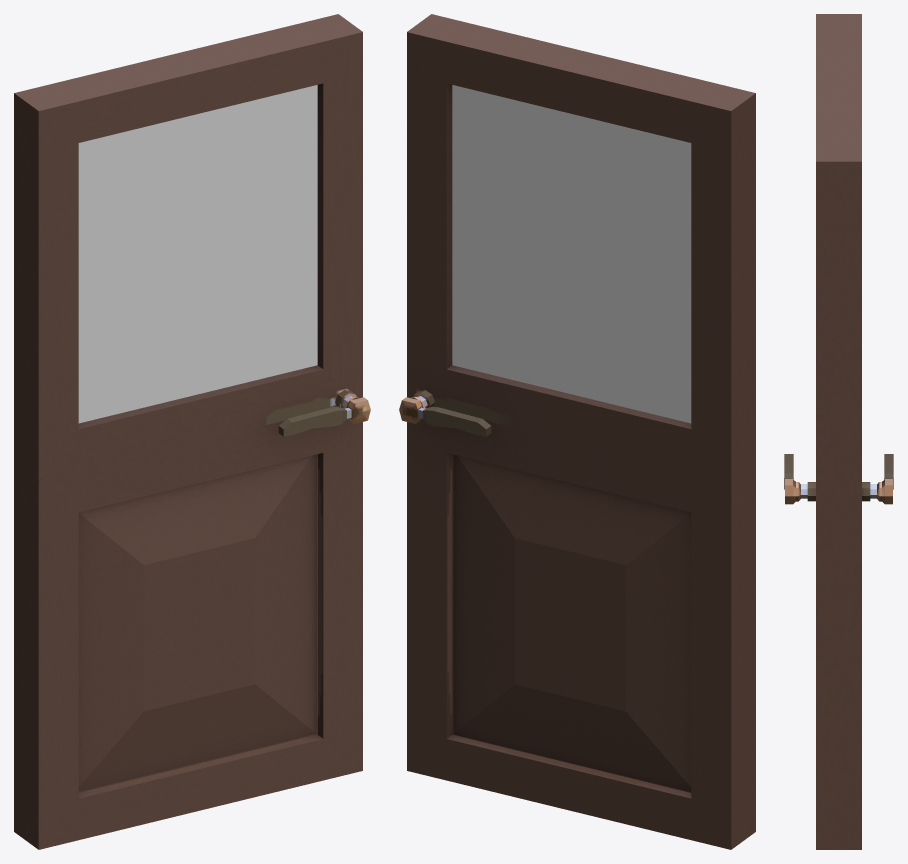
The model's file is door03.fbx.
The picture shows the model from 3 angles, left to right: view 1: azimuth 30°, elevation 25°; view 2: azimuth 150°, elevation 25°; view 3: azimuth 270°, elevation 25°; orthographic projection. The views are drawn at different scales.
Parts seen in each view (by area): view 1: Cube.001; view 2: Cube.001; view 3: Cube.001.
Part boxes in pixels (box(x1,y1,x2,y2)): Cube.001: box(14, 14, 370, 849); Cube.001: box(399, 14, 755, 849); Cube.001: box(784, 14, 893, 849).
Bounding box in the file's own units: 0.8807 × 0.2755 × 1.92.
Materials: 2 (1 with a texture image).
